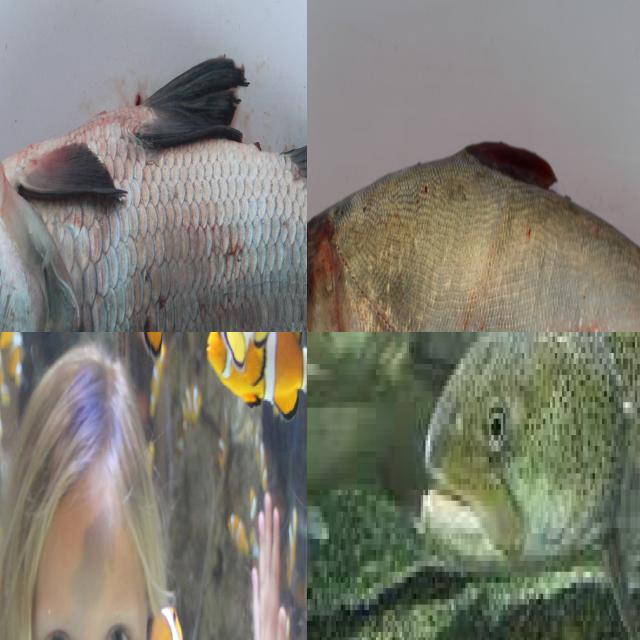fish: (0, 0, 307, 332), (307, 129, 640, 332)
